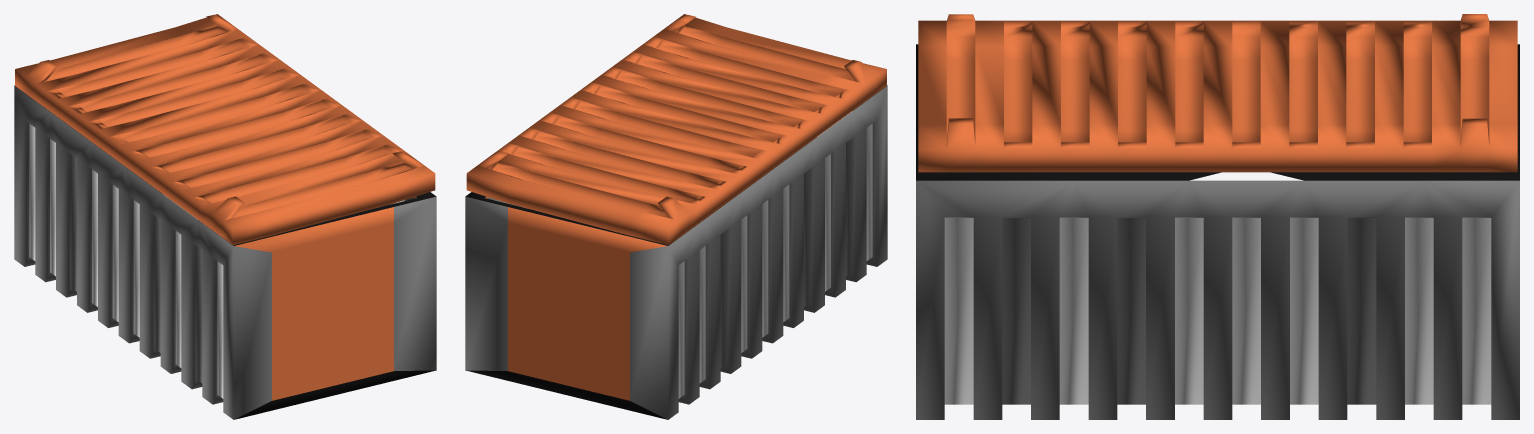
File: CargoBox.fbx
The picture shows the model from 3 angles, left to right: view 1: azimuth 30°, elevation 25°; view 2: azimuth 150°, elevation 25°; view 3: azimuth 270°, elevation 25°; orthographic projection. The views are drawn at different scales.
Visible parts, largest first — view 1: Cube; view 2: Cube; view 3: Cube.
Part boxes in pixels (x1,y1,x2,y2): Cube: (14, 14, 436, 419); Cube: (465, 14, 887, 419); Cube: (916, 14, 1519, 419).
Bounding box in the file's own units: 374 × 365 × 700.
